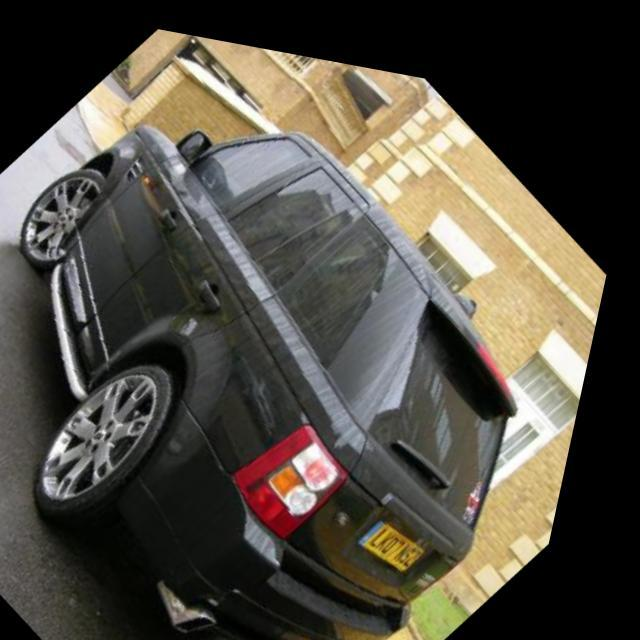license_plate: (369, 491, 451, 568)
